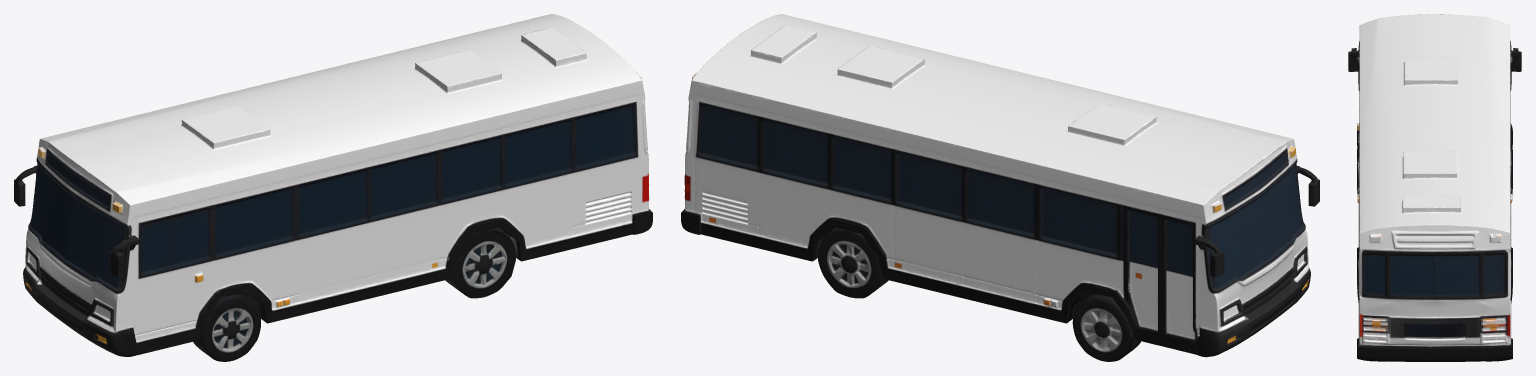
File: bus.glb
3 views of the same model, side by side, from view 1: azimuth 30°, elevation 25°; view 2: azimuth 150°, elevation 25°; view 3: azimuth 270°, elevation 25° (orthographic). The views are drawn at different scales.
Size of the model in its own units: 1.9 by 0.6473 by 0.6192.
Materials: 1 (1 with a texture image).
